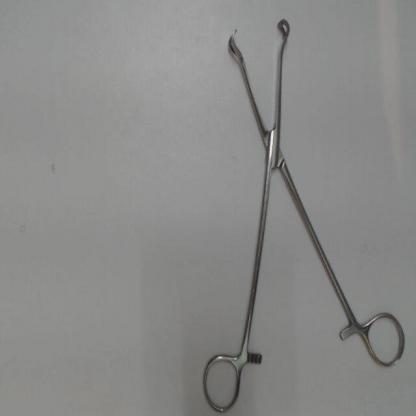8 Babcock Tissue Forceps: (197, 9, 407, 416)
